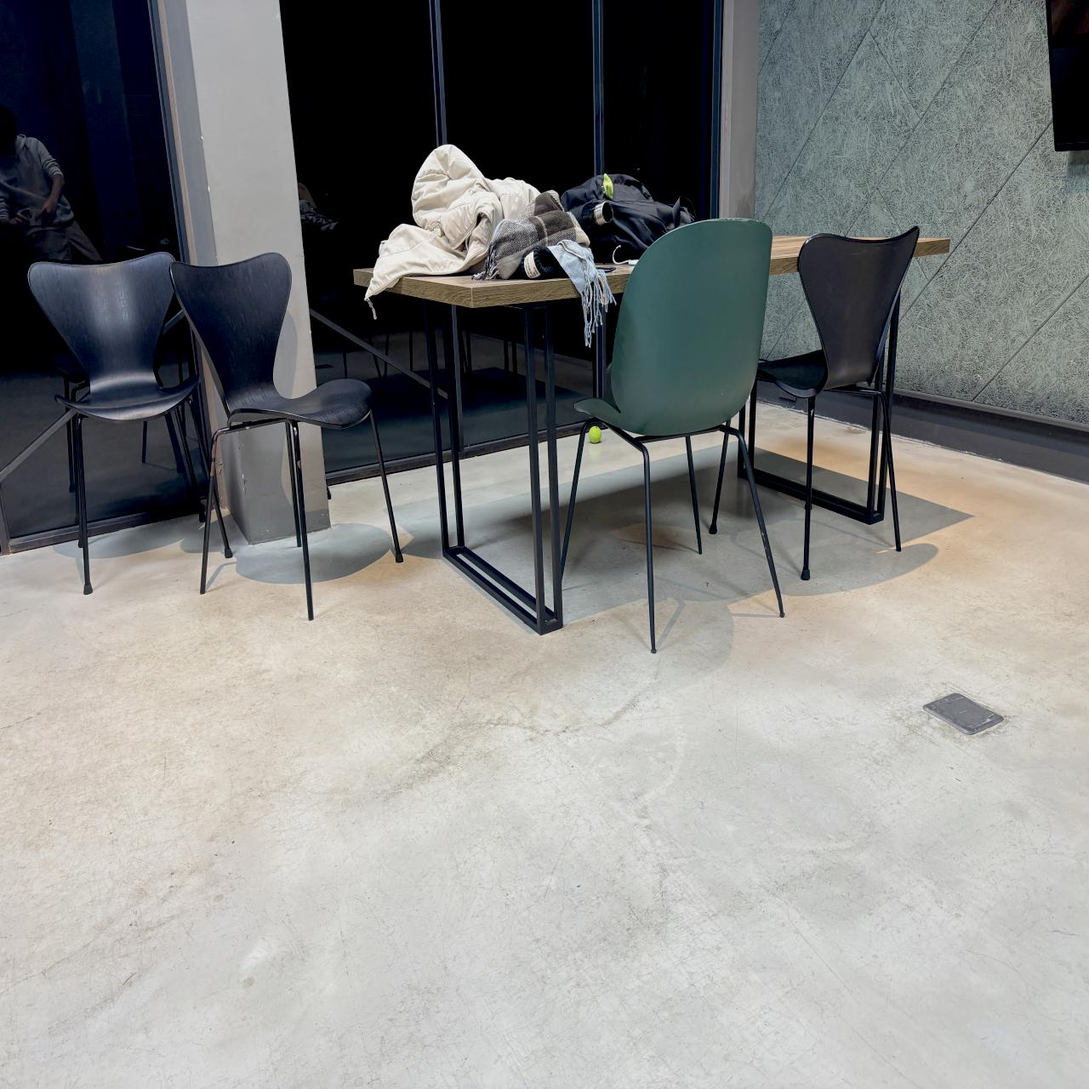tennisball: (590, 425, 601, 443)
